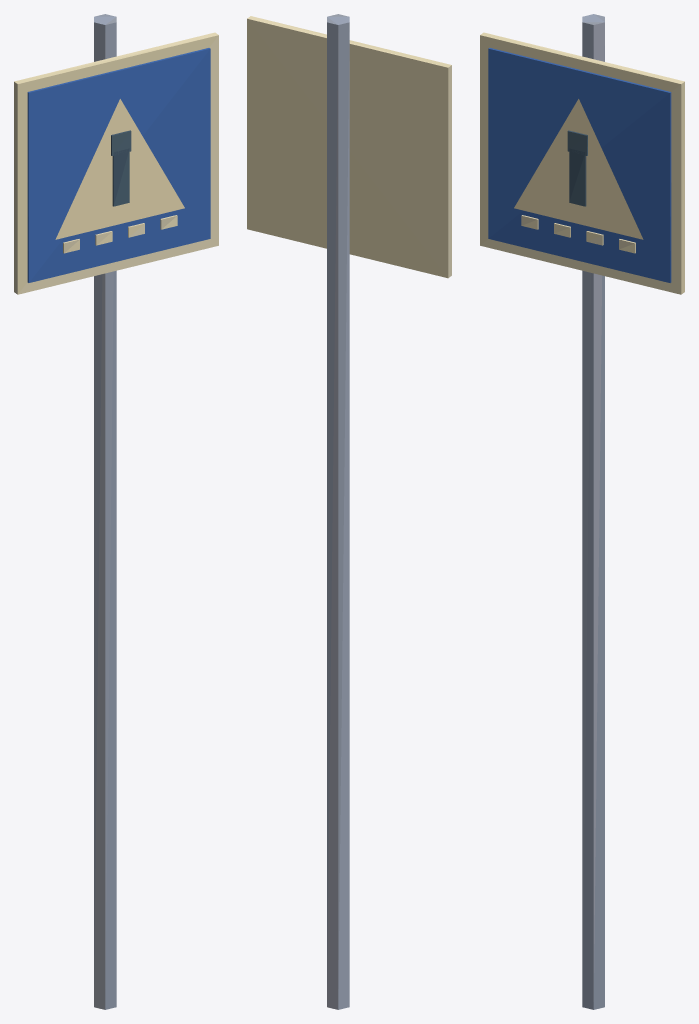
File: HK_Sign_Crosswalk.lod.glb
3 views of the same model, side by side, from view 1: azimuth 30°, elevation 25°; view 2: azimuth 150°, elevation 25°; view 3: azimuth 330°, elevation 25° (orthographic).
Visible parts, largest first — view 1: HK_Sign_Crosswalk; view 2: HK_Sign_Crosswalk; view 3: HK_Sign_Crosswalk.
Part boxes in pixels (<box>): HK_Sign_Crosswalk: <box>14,14,218,1009</box>; HK_Sign_Crosswalk: <box>247,14,451,1009</box>; HK_Sign_Crosswalk: <box>480,14,684,1009</box>.
Size of the model in its own units: 0.62 by 2.9 by 0.1178.
